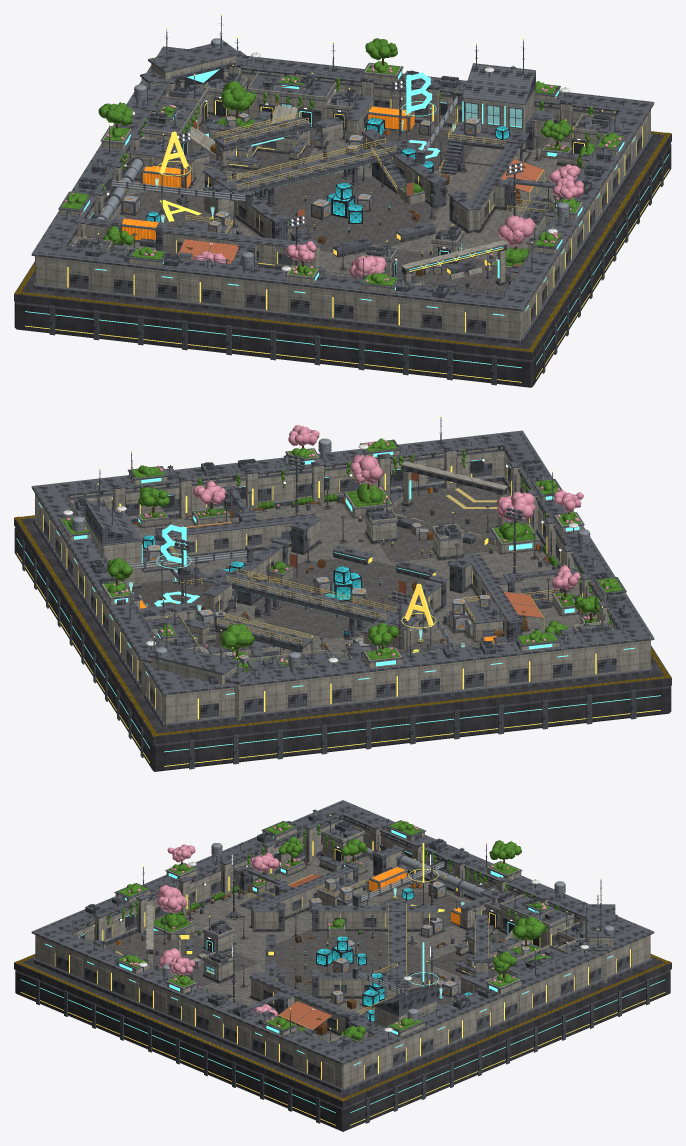
Rendered from valorant_style_map_v2_heavy-compressed.glb.
3 views of the same model, one above another, from view 1: azimuth 30°, elevation 25°; view 2: azimuth 150°, elevation 25°; view 3: azimuth 270°, elevation 25° (orthographic). The views are drawn at different scales.
Parts seen in each view (by area): view 1: PerimeterWalls, Terrain, InnerWalls, DefenderSpawn, Floor, Site_B, Foliage, Extras, Bridge, Site_A, AttackerSpawn, Lobbies (+2 smaller); view 2: PerimeterWalls, Terrain, InnerWalls, Floor, DefenderSpawn, Foliage, Extras, AttackerSpawn, Site_B, Bridge, Mid, Lobbies (+2 smaller); view 3: PerimeterWalls, Terrain, InnerWalls, Floor, DefenderSpawn, Foliage, Extras, Site_A, AttackerSpawn, Lobbies, Site_B, Mid (+1 smaller).
Boxes of the visible parts, box(x1,y1,x2,y2) form: PerimeterWalls: box(31, 38, 654, 344); Terrain: box(14, 123, 671, 387); InnerWalls: box(86, 93, 581, 269); DefenderSpawn: box(140, 14, 361, 179); Floor: box(119, 109, 508, 294); Site_B: box(345, 38, 555, 193); Foliage: box(58, 38, 627, 328); Extras: box(91, 78, 594, 285); Bridge: box(203, 138, 419, 216); Site_A: box(88, 142, 242, 247); AttackerSpawn: box(349, 214, 535, 288); Lobbies: box(73, 110, 614, 263); PerimeterWalls: box(31, 416, 654, 728); Terrain: box(14, 480, 671, 771); InnerWalls: box(140, 486, 580, 657); Floor: box(131, 482, 526, 653); DefenderSpawn: box(140, 599, 352, 720); Foliage: box(58, 425, 626, 668); Extras: box(108, 454, 612, 653); AttackerSpawn: box(342, 454, 540, 560); Site_B: box(85, 468, 267, 627); Bridge: box(203, 568, 420, 649); Mid: box(254, 513, 487, 639); Lobbies: box(71, 483, 612, 634); PerimeterWalls: box(31, 800, 654, 1092); Terrain: box(14, 855, 671, 1131); InnerWalls: box(234, 845, 527, 1035); Floor: box(106, 892, 506, 1007); DefenderSpawn: box(435, 878, 615, 982); Foliage: box(88, 820, 558, 1041); Extras: box(80, 834, 489, 1041); Site_A: box(306, 847, 511, 937); AttackerSpawn: box(115, 884, 235, 988); Lobbies: box(238, 815, 382, 1048); Site_B: box(329, 959, 473, 1037); Mid: box(178, 914, 416, 989).
Bounding box in the file's own units: 133 × 26.53 × 133.
Materials: 28 (17 with a texture image).
